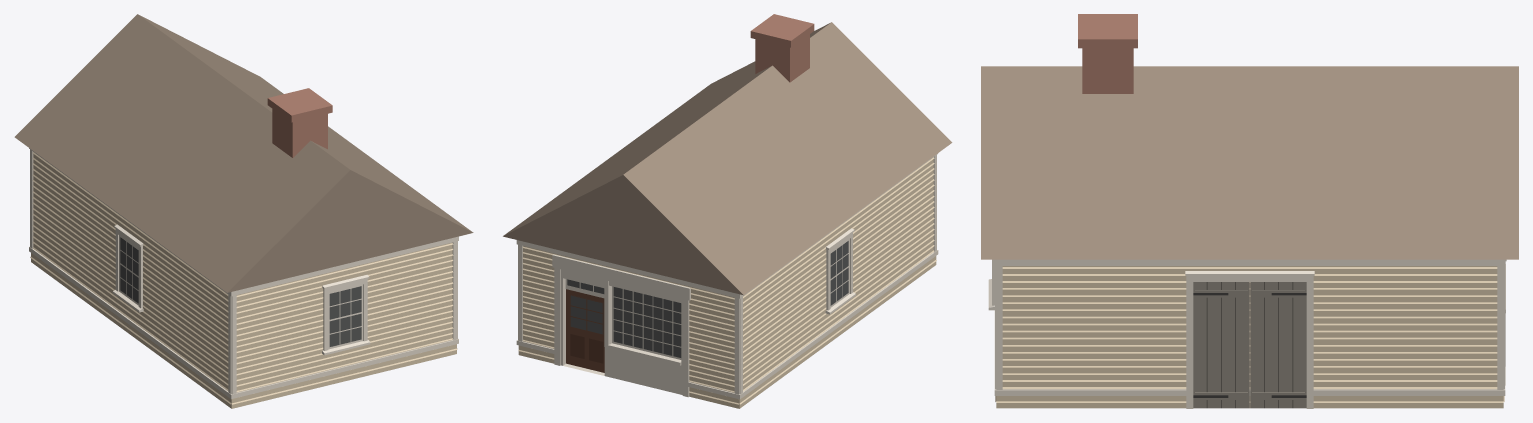
File: recon_1835_core_c1_047__inferred_1835.glb
3 views of the same model, side by side, from view 1: azimuth 30°, elevation 25°; view 2: azimuth 150°, elevation 25°; view 3: azimuth 270°, elevation 25° (orthographic). The views are drawn at different scales.
Visible parts, largest first — view 1: recon_1835_core_c1_047__inferred_1835; view 2: recon_1835_core_c1_047__inferred_1835; view 3: recon_1835_core_c1_047__inferred_1835.
Boxes of the visible parts, <box> form: recon_1835_core_c1_047__inferred_1835: <box>14,14,473,408</box>; recon_1835_core_c1_047__inferred_1835: <box>503,14,952,408</box>; recon_1835_core_c1_047__inferred_1835: <box>981,14,1518,408</box>.
Bounding box in the file's own units: 5.85 × 5.61 × 8.76.
